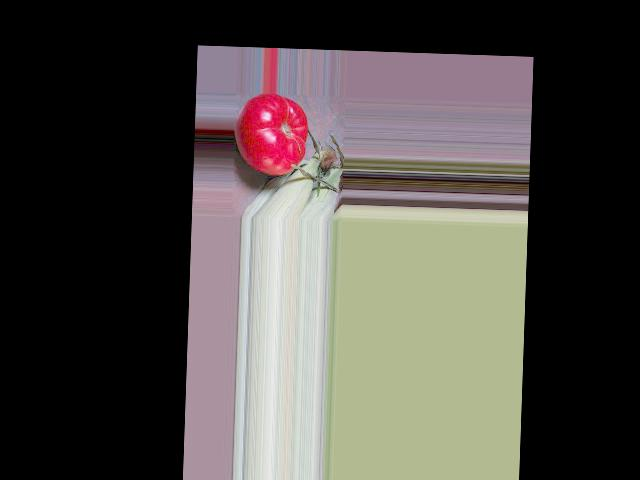tomato: (233, 93, 309, 176)
